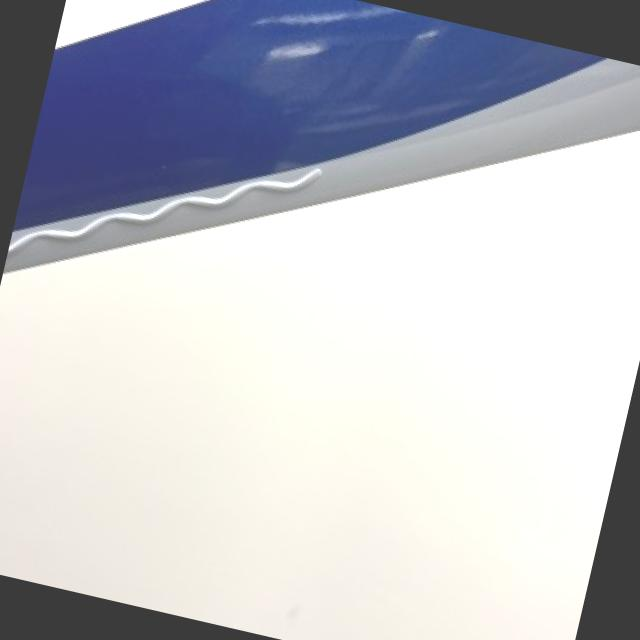healthy: (4, 0, 640, 267)
